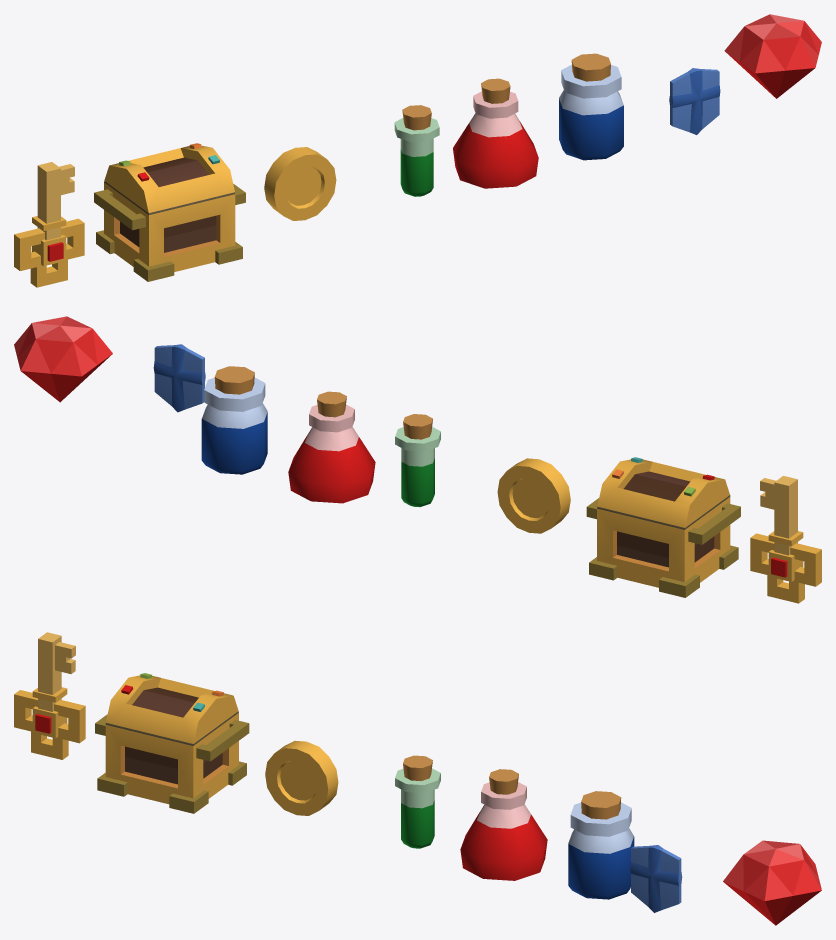
The model's file is item.FBX.
3 renders of one model, top to bottom at view 1: azimuth 30°, elevation 25°; view 2: azimuth 150°, elevation 25°; view 3: azimuth 330°, elevation 25°, orthographic.
Parts seen in each view (by area): view 1: treasure_box, hp_potion, mp_potion, key, jewel, coin, antidote, armor_shield; view 2: treasure_box, hp_potion, mp_potion, key, jewel, coin, antidote, armor_shield; view 3: treasure_box, hp_potion, mp_potion, key, jewel, coin, antidote, armor_shield.
Boxes of the visible parts, left/top/right/bottom form: treasure_box: left=94, top=143, right=245, bottom=281; hp_potion: left=453, top=78, right=538, bottom=188; mp_potion: left=559, top=53, right=623, bottom=160; key: left=14, top=162, right=84, bottom=287; jewel: left=724, top=14, right=821, bottom=98; coin: left=264, top=147, right=336, bottom=220; antidote: left=394, top=105, right=439, bottom=196; armor_shield: left=669, top=68, right=720, bottom=134; treasure_box: left=586, top=457, right=740, bottom=597; hp_potion: left=288, top=391, right=375, bottom=503; mp_potion: left=201, top=366, right=267, bottom=474; key: left=750, top=476, right=821, bottom=603; jewel: left=14, top=316, right=112, bottom=402; coin: left=497, top=458, right=570, bottom=533; antidote: left=395, top=414, right=440, bottom=507; armor_shield: left=153, top=344, right=205, bottom=412; treasure_box: left=95, top=673, right=249, bottom=813; hp_potion: left=460, top=769, right=547, bottom=880; mp_potion: left=568, top=791, right=634, bottom=899; key: left=14, top=632, right=85, bottom=759; jewel: left=723, top=840, right=821, bottom=925; coin: left=265, top=740, right=338, bottom=815; antidote: left=395, top=755, right=440, bottom=848; armor_shield: left=630, top=845, right=682, bottom=912.
Size of the model in its own units: 38.03 by 5.23 by 4.74.
1 material, 1 textured.
